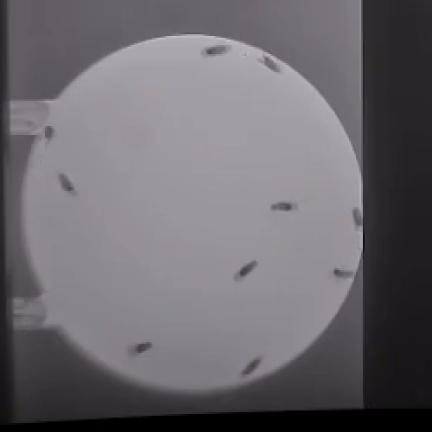fly: (242, 357, 262, 377), (236, 261, 257, 280), (59, 173, 76, 194), (260, 54, 281, 71), (203, 45, 229, 55), (272, 202, 297, 212), (132, 342, 152, 354), (353, 207, 362, 228), (334, 269, 354, 278), (44, 126, 55, 140)
